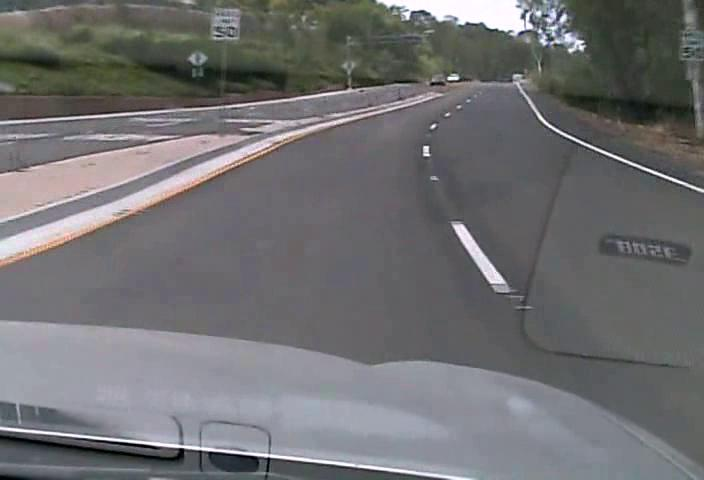speedLimit50: (208, 6, 242, 42)
